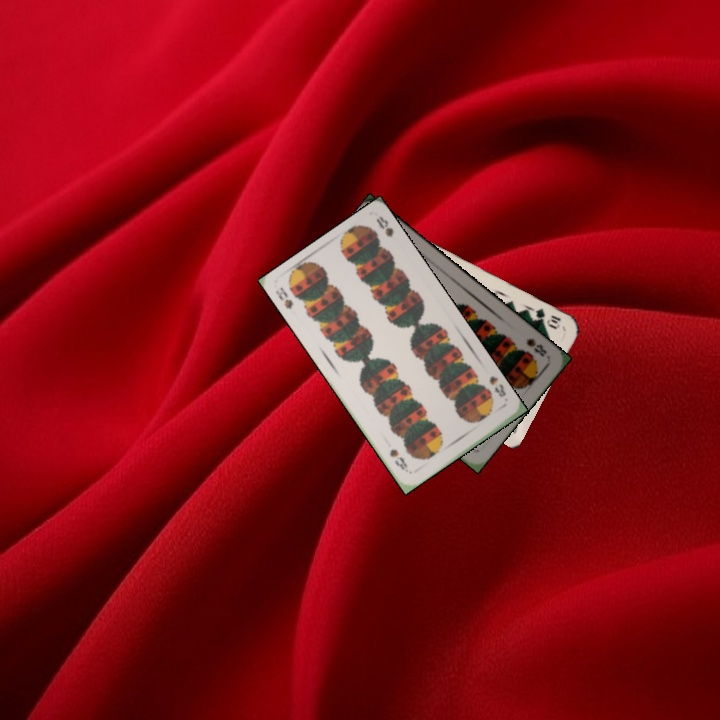G10: (531, 304, 564, 331)
S8: (271, 283, 296, 312), (522, 334, 549, 359), (485, 372, 509, 400)
